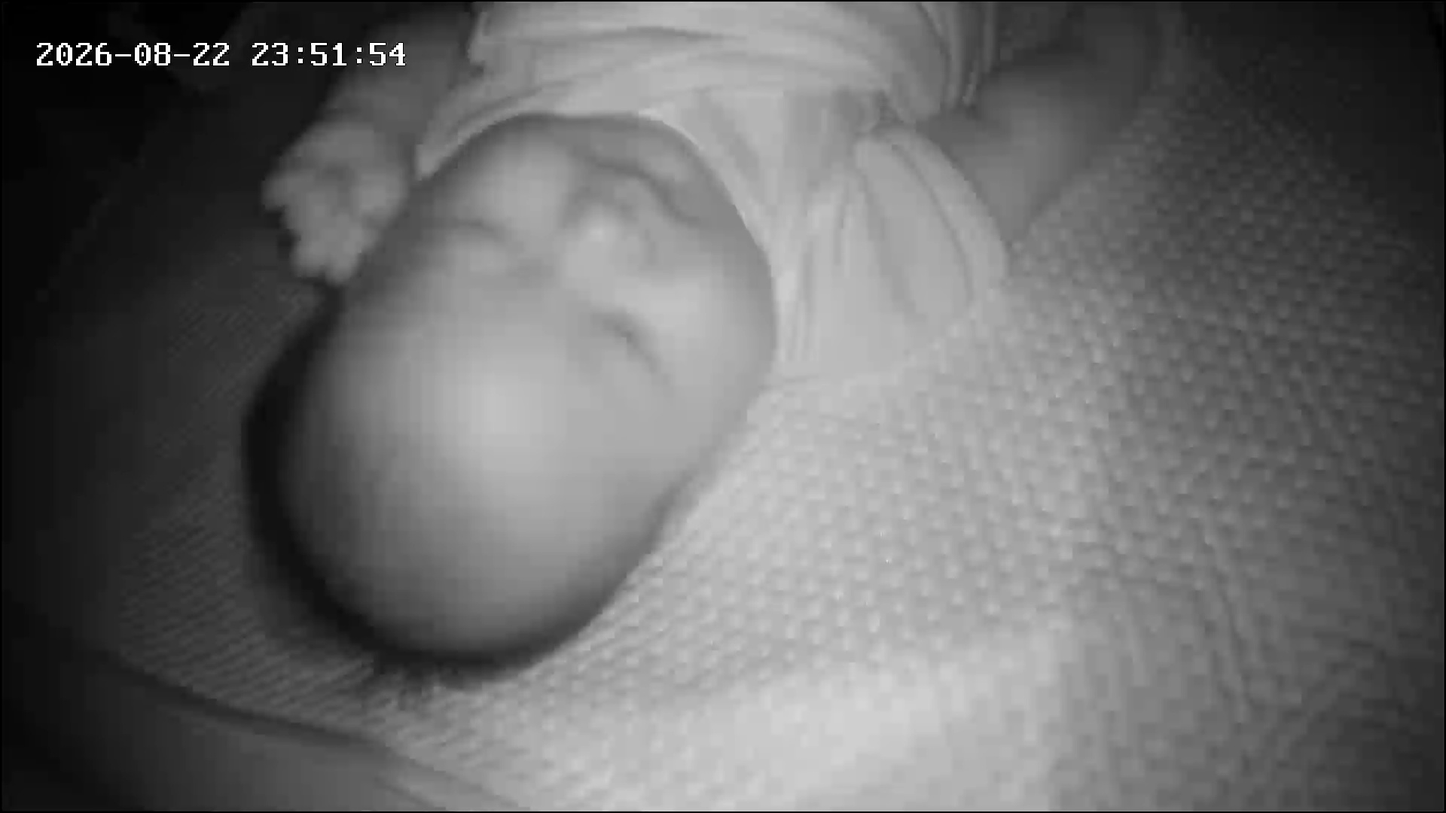baby: (141, 0, 1145, 674), (8, 0, 938, 695)
baby_face: (243, 108, 797, 669)
